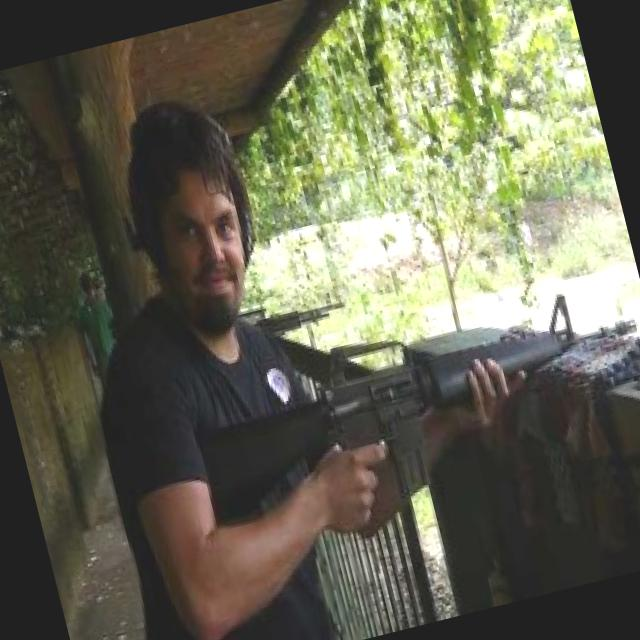long weapon: (154, 274, 632, 552)
